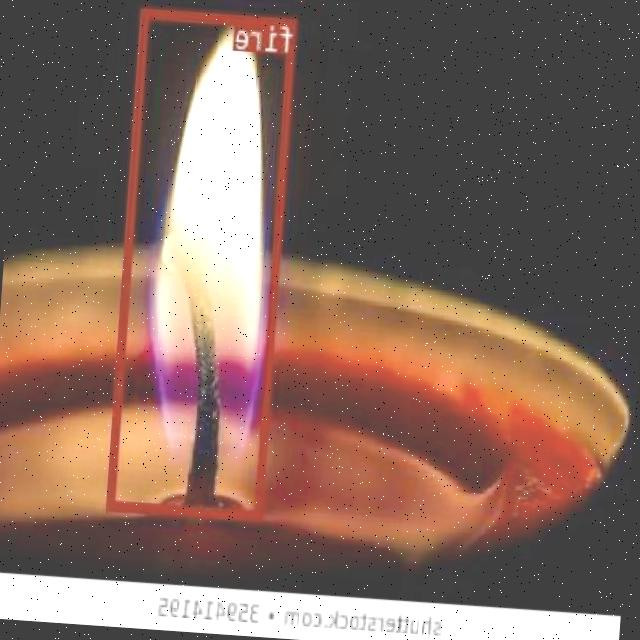fire: (108, 6, 299, 519)
